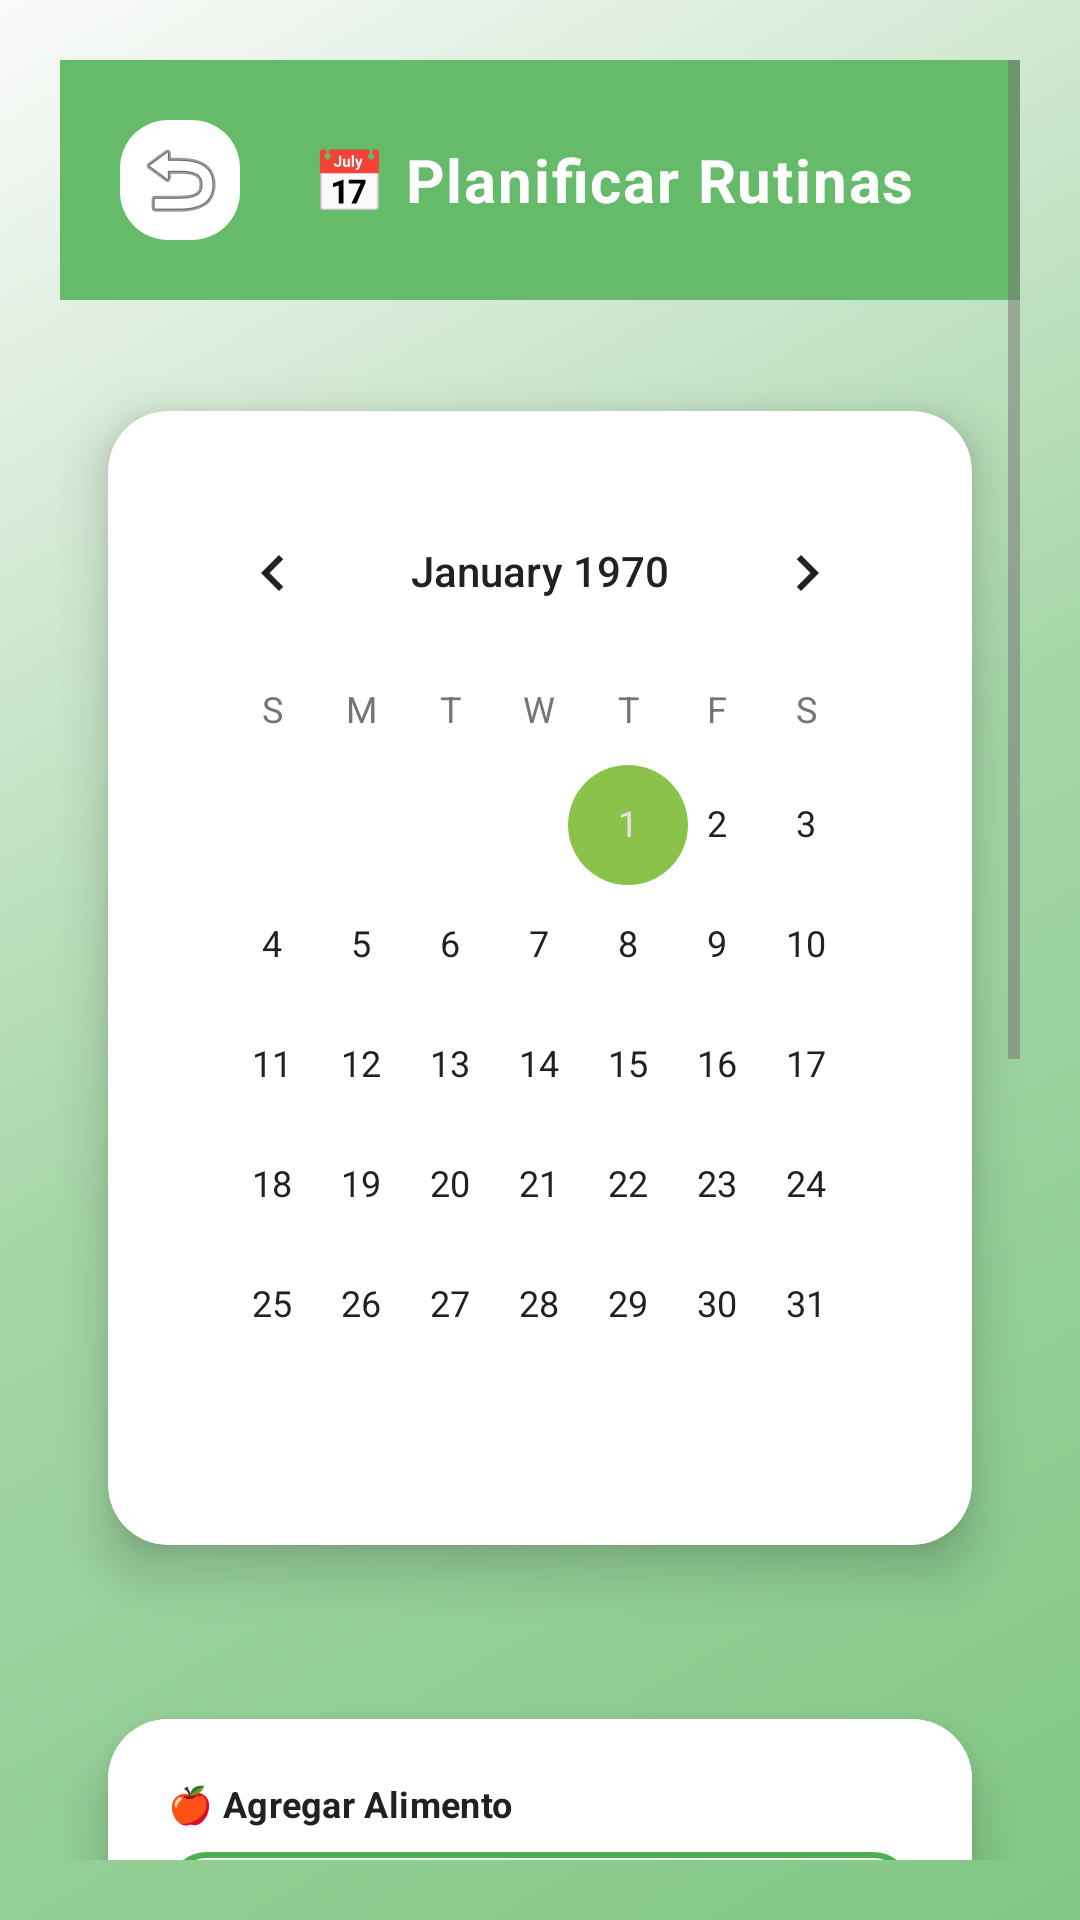

Where to tap for icons on this 1080*1920 app screen, as point (x, y):
Volver: point (180, 180)
